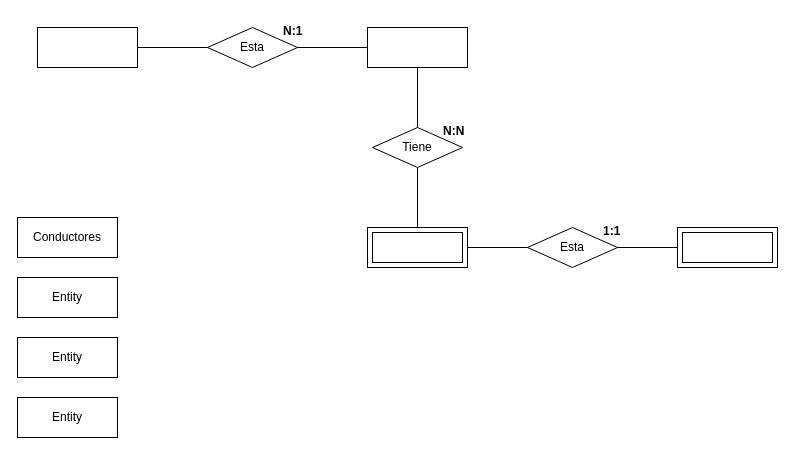
Some shapes in this 795 by 455 pixel diagram are drawn without their labels. The centre of each missing label's shape, as x and y in pixels:
"Estaciones" goes at (417,247).
"Lineas" goes at (417,47).
"Trenes" goes at (87,47).
"Ubicaciones" goes at (727,247).
